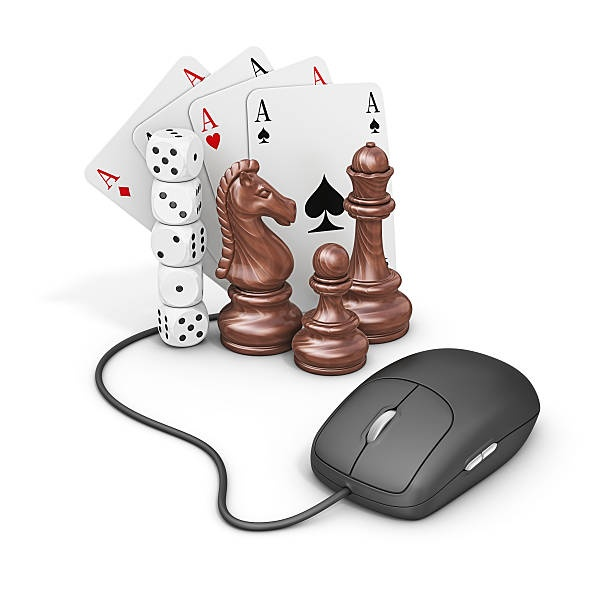mouse: (307, 346, 542, 523)
